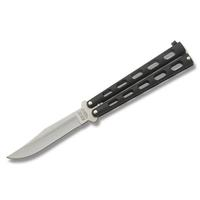knife: (3, 37, 190, 169)
